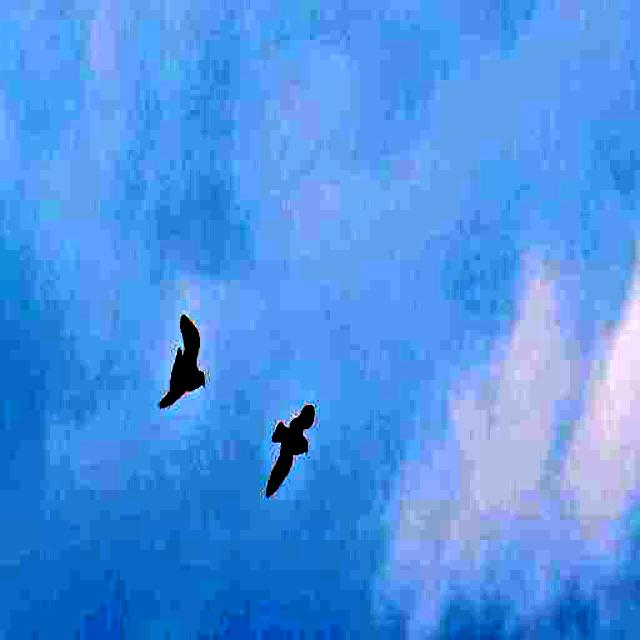airplane: (251, 392, 322, 516), (154, 294, 211, 419)
